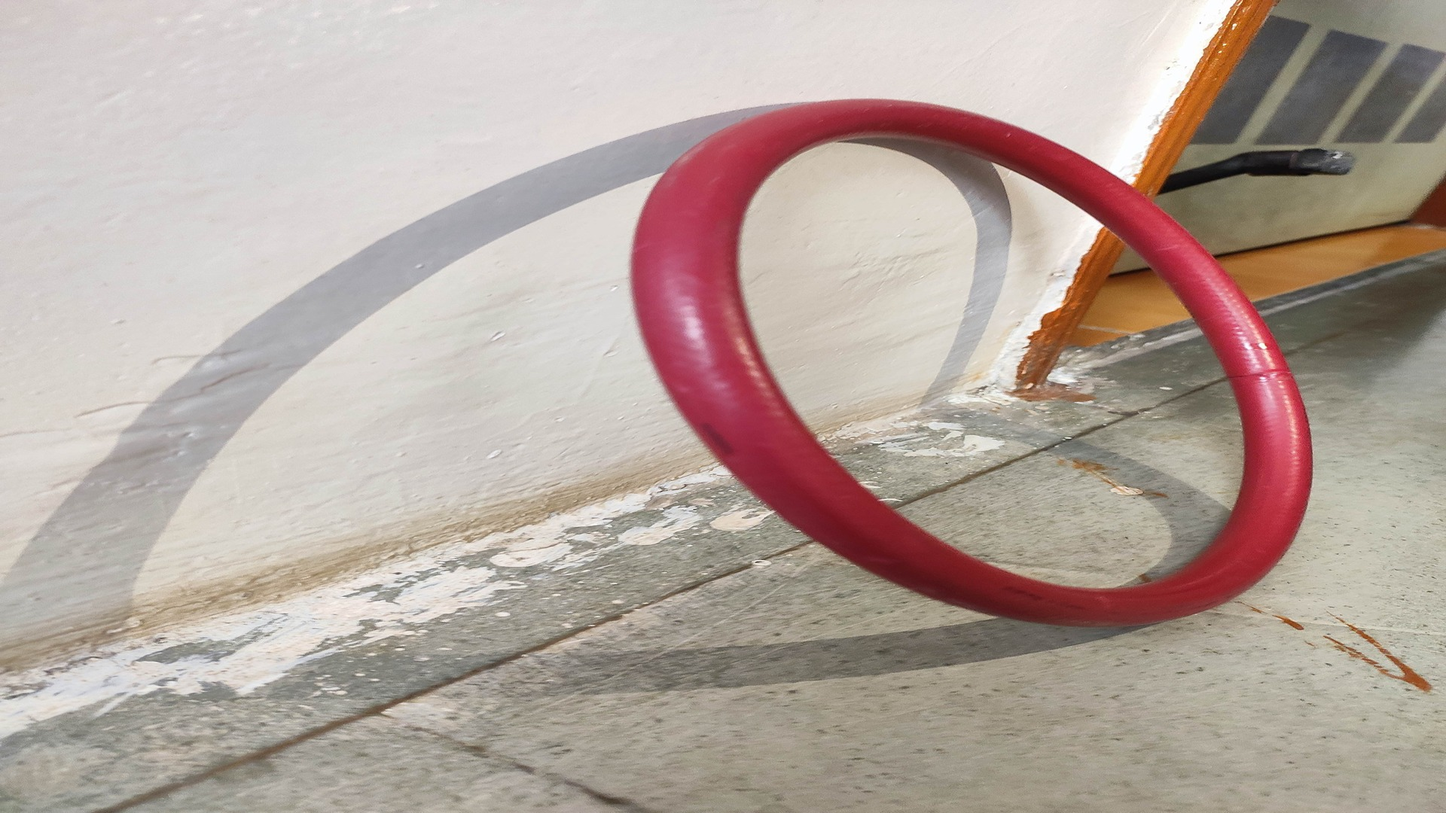Red ring: (645, 100, 1324, 626)
